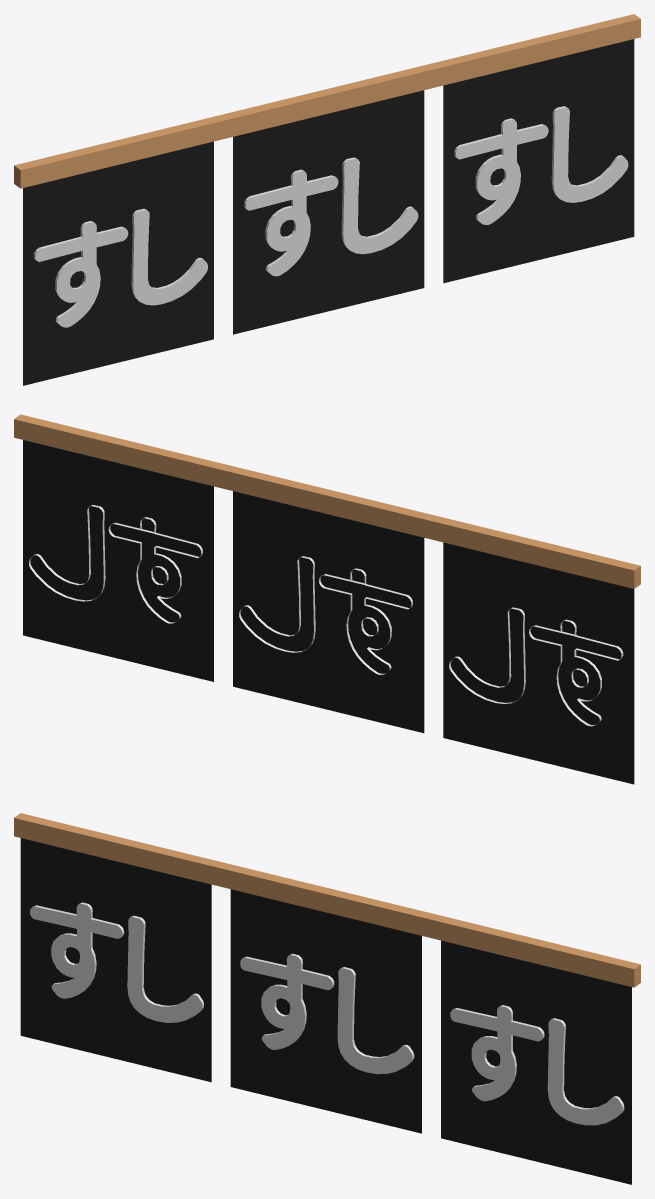
File: Decoration_Sign.fbx
3 renders of one model, top to bottom at view 1: azimuth 30°, elevation 25°; view 2: azimuth 150°, elevation 25°; view 3: azimuth 330°, elevation 25°, orthographic.
Visible parts, largest first — view 1: Decoration_Sign; view 2: Decoration_Sign; view 3: Decoration_Sign.
Boxes of the visible parts, <box> form: Decoration_Sign: <box>14,14,640,385</box>; Decoration_Sign: <box>14,414,640,784</box>; Decoration_Sign: <box>14,813,640,1184</box>.
Size of the model in its own units: 434 by 146 by 8.02.
